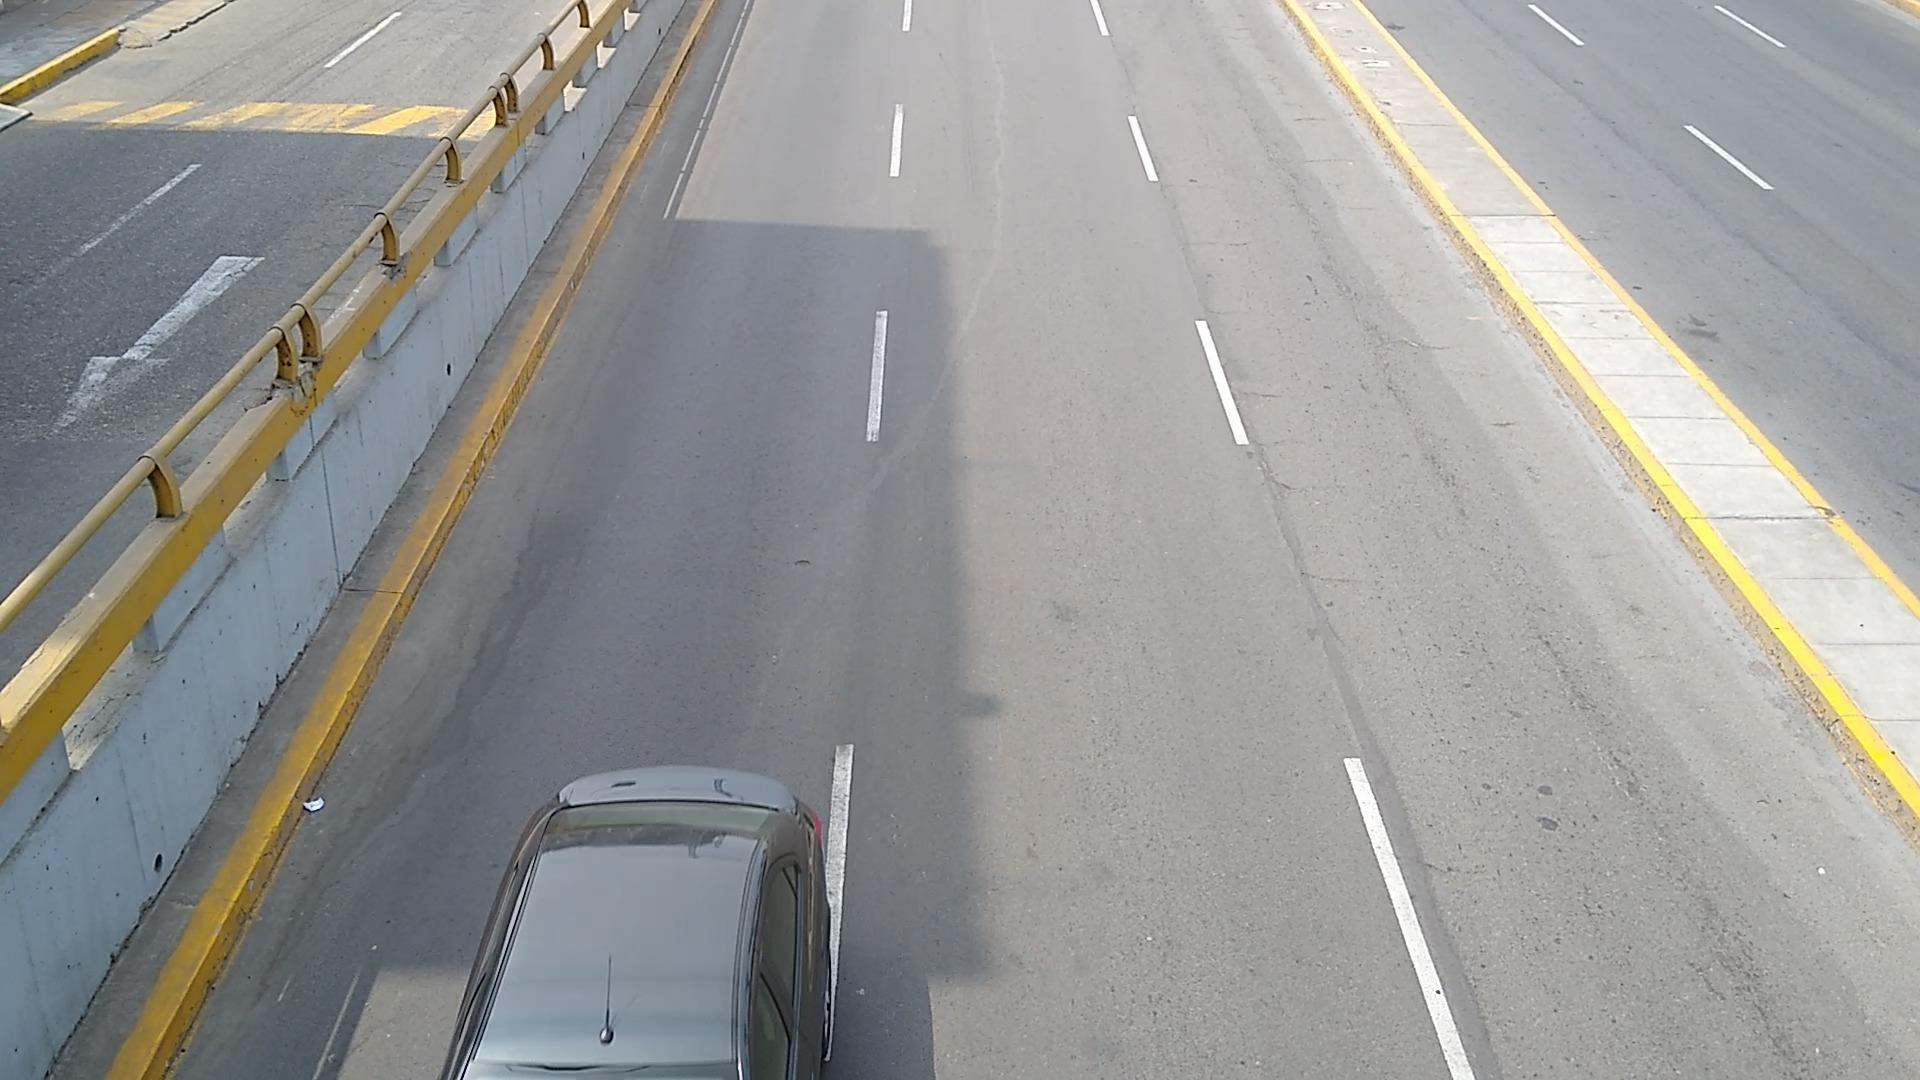car: (443, 765, 832, 1080), (757, 866, 799, 1023)
